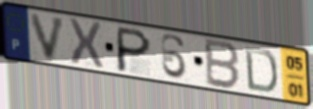6: (160, 33, 188, 83)
B: (204, 36, 242, 92)
D: (243, 45, 280, 96)
P: (114, 25, 154, 75)
V: (28, 12, 69, 64)
X: (66, 16, 106, 70)
